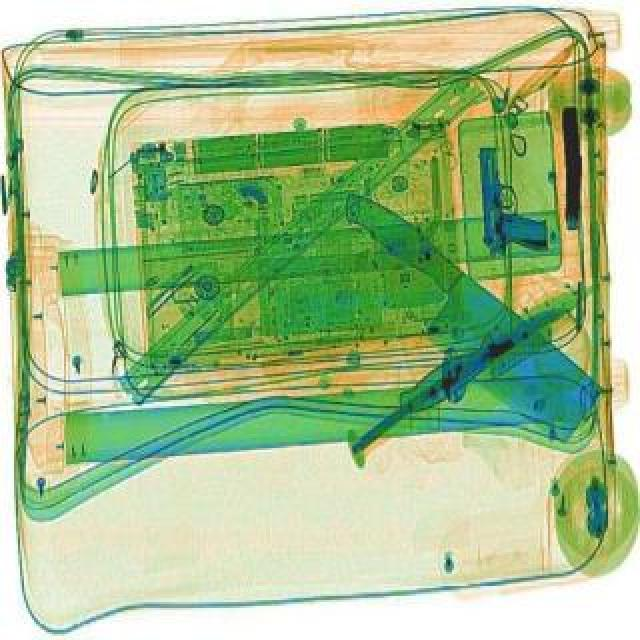gun: (480, 146, 554, 264), (564, 110, 584, 230)
knife: (304, 186, 620, 450), (348, 304, 572, 456), (392, 276, 612, 426)
